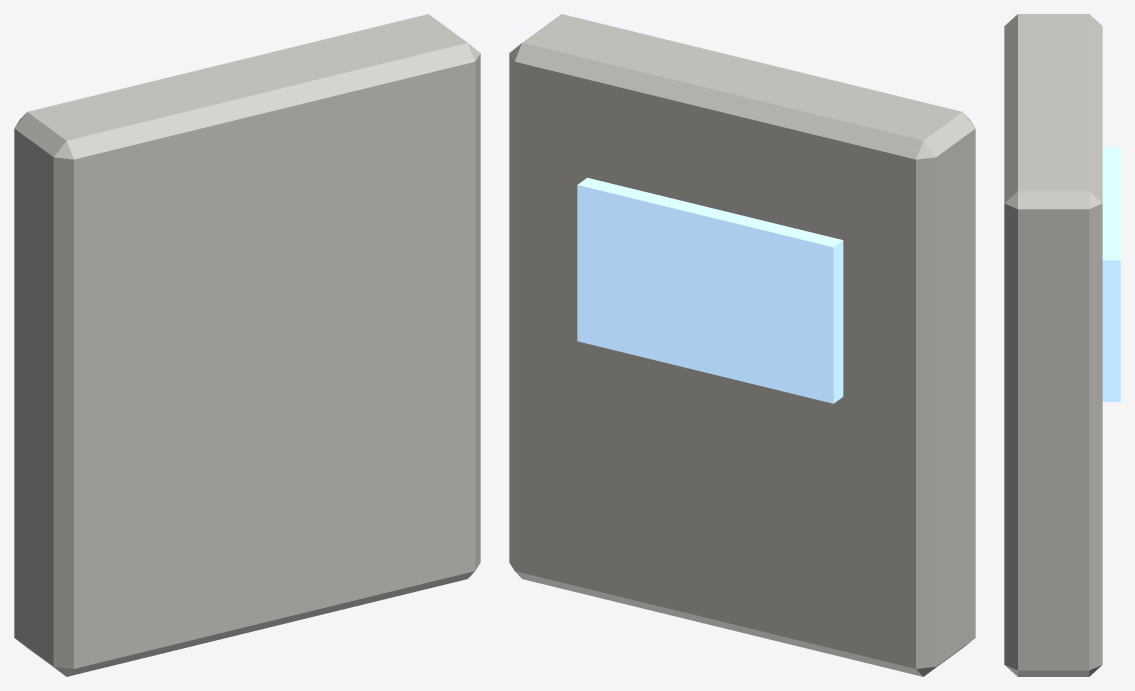
The model's file is prop_thermostat.glb.
The picture shows the model from 3 angles, left to right: view 1: azimuth 30°, elevation 25°; view 2: azimuth 150°, elevation 25°; view 3: azimuth 270°, elevation 25°; orthographic projection. The views are drawn at different scales.
Parts seen in each view (by area): view 1: Thermostat; view 2: Thermostat; view 3: Thermostat.
Part boxes in pixels (x1,y1,x2,y2): Thermostat: [14, 14, 480, 676]; Thermostat: [509, 14, 975, 676]; Thermostat: [1004, 14, 1120, 676].
Size of the model in its own units: 0.1 by 0.12 by 0.026.
